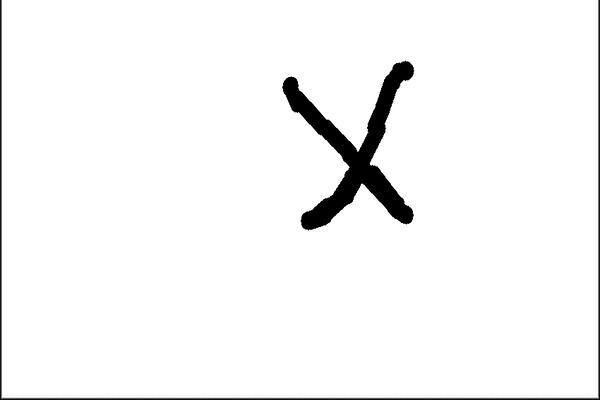X: (253, 54, 445, 227)
